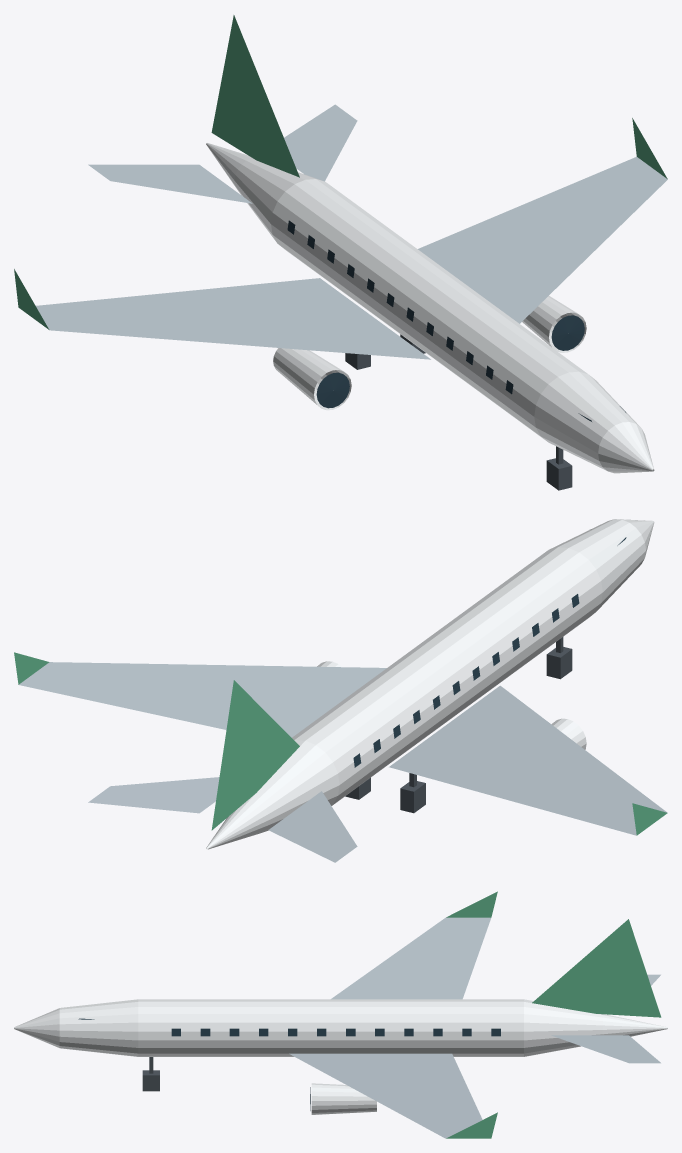
Rendered from a321-ETH.gltf.
3 renders of one model, top to bottom at view 1: azimuth 30°, elevation 25°; view 2: azimuth 150°, elevation 25°; view 3: azimuth 270°, elevation 25°, orthographic. The views are drawn at different scales.
Visible parts, largest first — view 1: object 1, Gear; view 2: object 1, Gear; view 3: object 1, Gear.
Boxes of the visible parts, box(x1,y1,x2,y2) form: object 1: box(14, 15, 667, 473); Gear: box(345, 334, 572, 490); object 1: box(14, 519, 667, 862); Gear: box(345, 637, 572, 813); object 1: box(14, 891, 667, 1138); Gear: box(142, 1057, 159, 1091).
Bounding box in the file's own units: 36 × 12.9 × 45.
